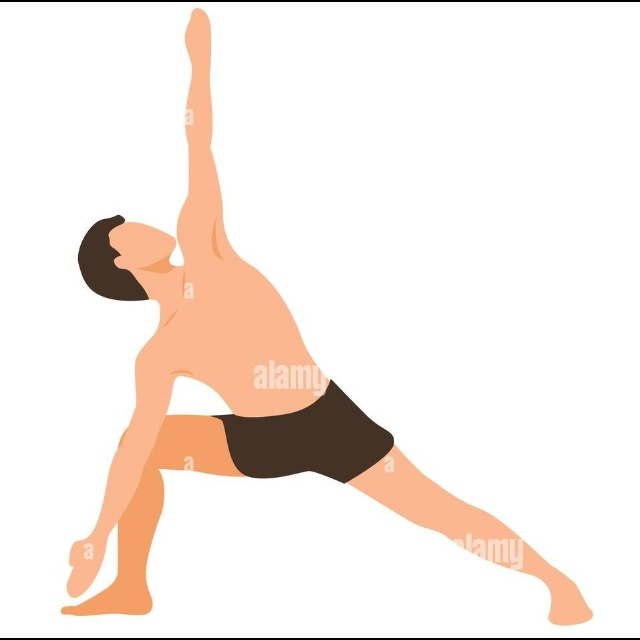Triangle_Pose: (54, 5, 596, 629)
